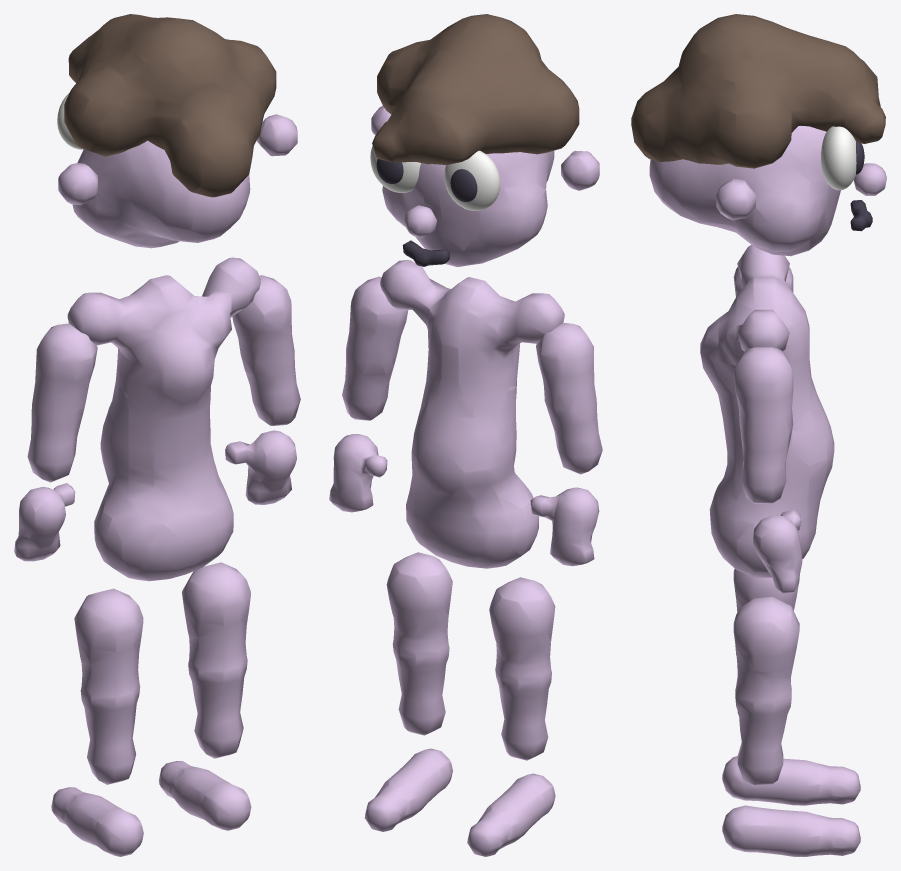
Rendered from avatar_test.glb.
The picture shows the model from 3 angles, left to right: view 1: azimuth 30°, elevation 25°; view 2: azimuth 150°, elevation 25°; view 3: azimuth 270°, elevation 25°; orthographic projection. The views are drawn at different scales.
Parts seen in each view (by area): view 1: Body, Hair, Head, LegL, LegR, ArmL, ArmR, FootR, FootL, HandR, HandL, EarL (+1 smaller); view 2: Body, Hair, Head, LegR, LegL, ArmL, ArmR, FootL, FootR, HandL, HandR, EyeWhiteL (+6 smaller); view 3: Hair, Body, Head, LegR, ArmR, FootR, FootL, HandR, EyeWhiteR, LegL, EarR, Nose (+1 smaller).
Part boxes in pixels (x1,y1,x2,y2): Body: (67, 257, 260, 581); Hair: (64, 14, 276, 197); Head: (72, 140, 250, 248); LegL: (74, 588, 143, 784); LegR: (182, 562, 250, 758); ArmL: (27, 323, 97, 482); ArmR: (232, 275, 300, 425); FootR: (158, 761, 251, 830); FootL: (51, 787, 143, 856); HandR: (225, 430, 296, 504); HandL: (14, 483, 75, 561); EarL: (58, 163, 97, 205); Body: (380, 259, 564, 568); Hair: (372, 14, 579, 164); Head: (382, 151, 554, 266); LegR: (386, 552, 452, 735); LegL: (489, 577, 555, 760); ArmL: (536, 322, 602, 474); ArmR: (342, 276, 408, 420); FootL: (467, 773, 555, 856); FootR: (364, 748, 452, 831); HandL: (530, 487, 599, 566); HandR: (329, 434, 387, 512); EyeWhiteL: (444, 150, 500, 210); Hair: (631, 14, 885, 168); Body: (700, 245, 834, 577); Head: (649, 126, 840, 256); LegR: (733, 596, 799, 786); ArmR: (733, 347, 793, 503); FootR: (722, 805, 860, 856); FootL: (722, 756, 860, 805); HandR: (753, 509, 802, 593); EyeWhiteR: (821, 126, 856, 190); LegL: (733, 568, 799, 715); EarR: (716, 179, 755, 220); Nose: (853, 163, 886, 195).
Bounding box in the file's own units: 0.641 × 1.83 × 0.5238.
